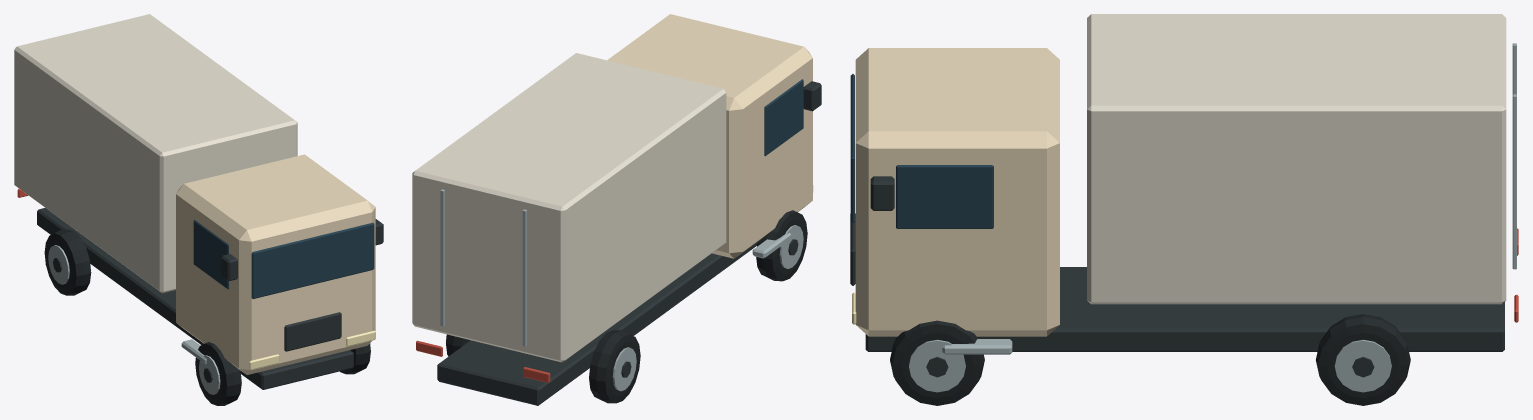
The model's file is truck-box-01.glb.
The picture shows the model from 3 angles, left to right: view 1: azimuth 30°, elevation 25°; view 2: azimuth 150°, elevation 25°; view 3: azimuth 270°, elevation 25°; orthographic projection. The views are drawn at different scales.
Visible parts, largest first — view 1: CargoBox, Cab, Glass_Windscreen, Chassis, Tyre_RR, Grille, Tyre_FR, CabWindow, Rim_RR, Rim_FR, Tyre_FL, Mirror; view 2: CargoBox, Cab, Chassis, Tyre_RR, CabWindow, Tyre_FR, Rim_RR, CargoDoorBar, CargoDoorBar.001, Rim_FR, Mirror, CabStep; view 3: CargoBox, Cab, Chassis, CabWindow.001, Tyre_RL, Tyre_FL, Rim_RL, Rim_FL, CabStep.001, CargoDoorBar.001, Mirror.001, Glass_Windscreen.
Boxes of the visible parts, box(x1,y1,x2,y2) form: CargoBox: box(14, 14, 297, 293); Cab: box(176, 154, 375, 374); Glass_Windscreen: box(251, 222, 374, 298); Chassis: box(37, 208, 353, 389); Tyre_RR: box(44, 229, 91, 295); Grille: box(284, 312, 341, 351); Tyre_FR: box(195, 342, 241, 405); CabWindow: box(193, 220, 228, 289); Rim_RR: box(48, 245, 69, 284); Rim_FR: box(199, 355, 220, 394); Tyre_FL: box(340, 343, 370, 374); Mirror: box(221, 254, 237, 280); CargoBox: box(412, 53, 726, 362); Cab: box(607, 14, 812, 258); Chassis: box(437, 242, 757, 405); Tyre_RR: box(589, 330, 640, 403); CabWindow: box(764, 79, 803, 156); Tyre_FR: box(756, 210, 807, 281); Rim_RR: box(612, 347, 636, 391); CargoDoorBar: box(522, 209, 526, 346); CargoDoorBar.001: box(440, 189, 444, 326); Rim_FR: box(779, 225, 803, 268); Mirror: box(803, 81, 821, 111); CabStep: box(752, 233, 791, 258); CargoBox: box(1087, 14, 1506, 304); Cab: box(855, 48, 1059, 336); Chassis: box(865, 267, 1504, 351); CabWindow.001: box(896, 165, 993, 228); Tyre_RL: box(1316, 314, 1410, 405); Tyre_FL: box(890, 320, 984, 405); Rim_RL: box(1334, 339, 1391, 392); Rim_FL: box(909, 339, 965, 392); CabStep.001: box(942, 339, 1012, 354); CargoDoorBar.001: box(1512, 94, 1516, 269); Mirror.001: box(870, 176, 894, 210); Glass_Windscreen: box(850, 74, 854, 222).
Size of the model in its own units: 2.35 by 3.05 by 6.19.
